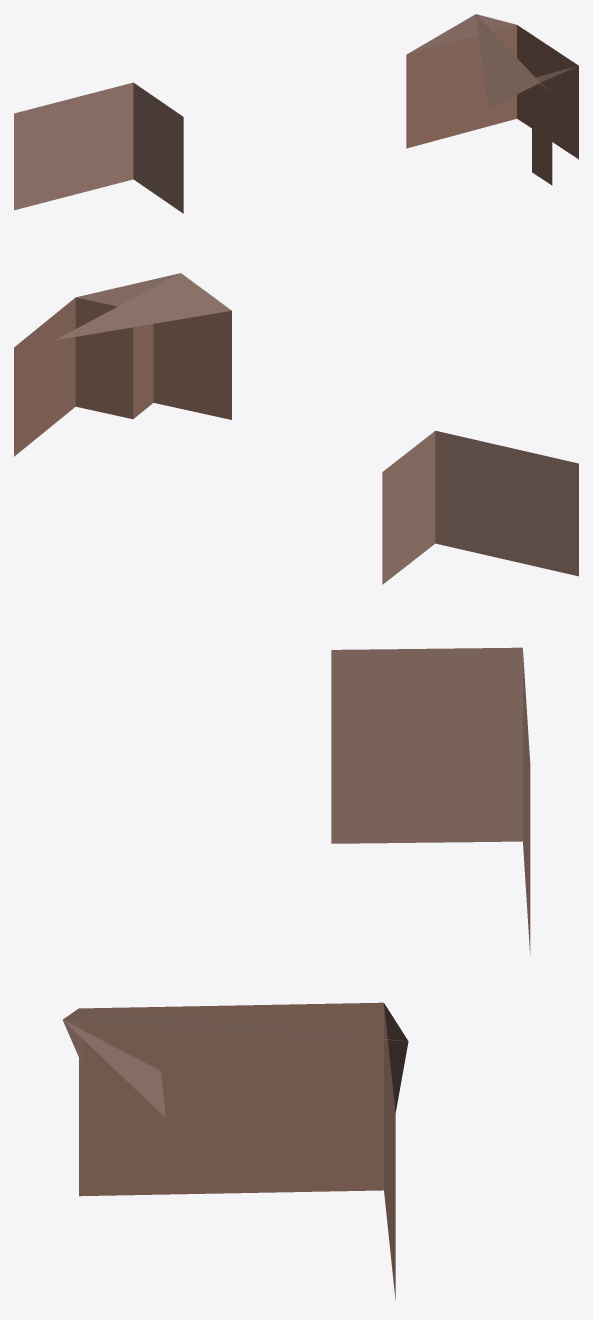
Rendered from c_1639_17819_buildings_residential.glb.
The picture shows the model from 3 angles, top to bottom: view 1: azimuth 30°, elevation 25°; view 2: azimuth 150°, elevation 25°; view 3: azimuth 270°, elevation 25°; orthographic projection. The views are drawn at different scales.
Parts seen in each view (by area): view 1: geometry_0; view 2: geometry_0; view 3: geometry_0.
Boxes of the visible parts, left/top/right/bottom form: geometry_0: left=14, top=14, right=578, bottom=213; geometry_0: left=14, top=273, right=578, bottom=584; geometry_0: left=63, top=647, right=530, bottom=1299.
Size of the model in its own units: 48.79 by 10.94 by 20.78.
